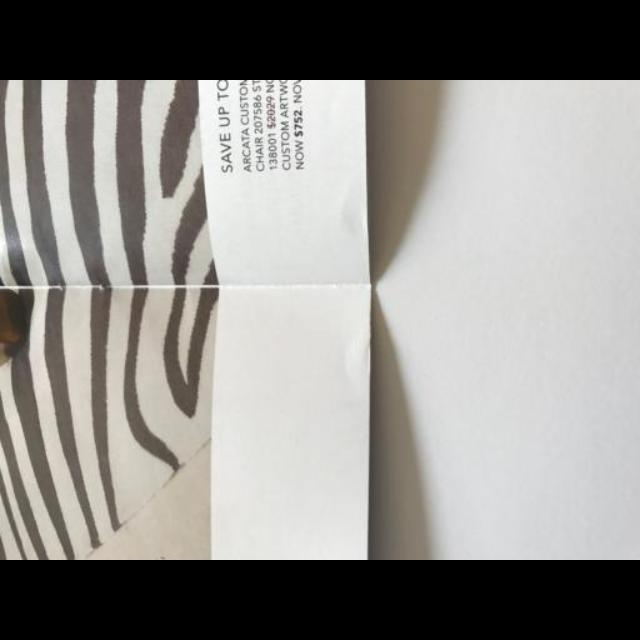papel: (1, 80, 373, 560)
